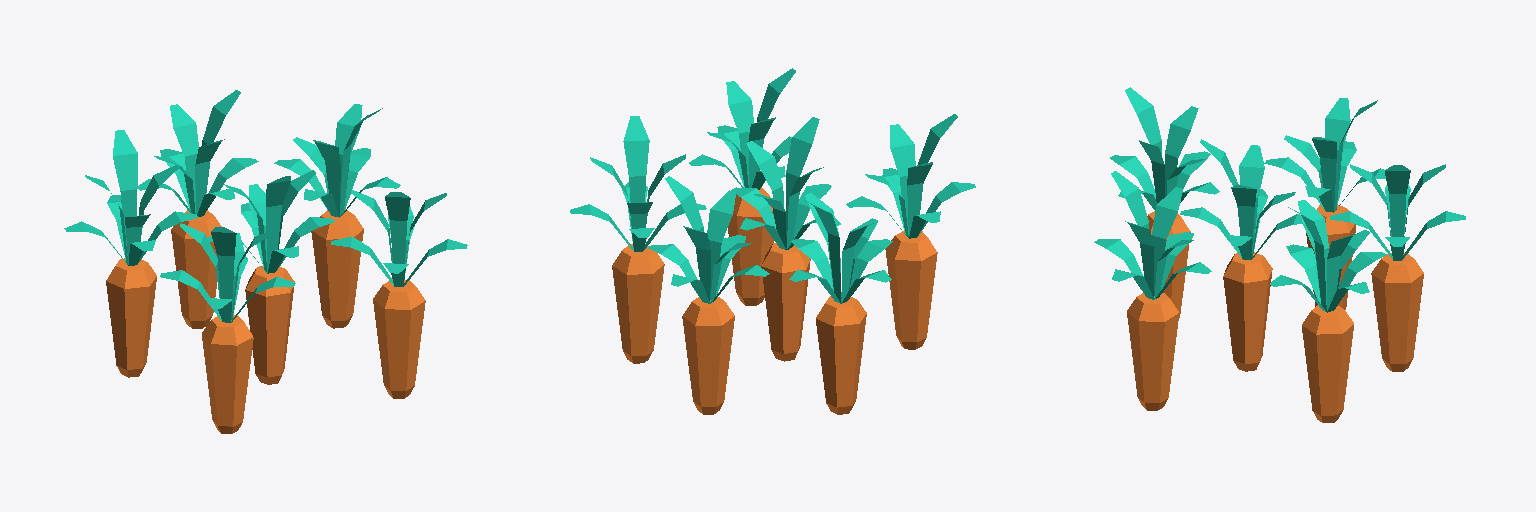
Rendered from carrots.obj.
3 renders of one model, left to right at view 1: azimuth 30°, elevation 25°; view 2: azimuth 150°, elevation 25°; view 3: azimuth 270°, elevation 25°, orthographic.
Visible parts, largest first — view 1: crop_carrot.005, crop_carrot.003, crop_carrot.002, crop_carrot.004, crop_carrot.001, crop_carrot.006; view 2: crop_carrot.004, crop_carrot.006, crop_carrot.002, crop_carrot.005, crop_carrot.003, crop_carrot.001; view 3: crop_carrot.001, crop_carrot.003, crop_carrot.006, crop_carrot.004, crop_carrot.002, crop_carrot.005.
Boxes of the visible parts, x1=… form: crop_carrot.005: x1=64, y1=130, x2=198, y2=377; crop_carrot.003: x1=274, y1=104, x2=400, y2=328; crop_carrot.002: x1=160, y1=223, x2=295, y2=433; crop_carrot.004: x1=138, y1=90, x2=258, y2=328; crop_carrot.001: x1=331, y1=190, x2=467, y2=398; crop_carrot.006: x1=207, y1=170, x2=334, y2=384; crop_carrot.004: x1=648, y1=176, x2=769, y2=414; crop_carrot.006: x1=731, y1=117, x2=840, y2=361; crop_carrot.002: x1=846, y1=114, x2=975, y2=349; crop_carrot.005: x1=789, y1=193, x2=892, y2=414; crop_carrot.003: x1=570, y1=116, x2=706, y2=363; crop_carrot.001: x1=689, y1=68, x2=813, y2=305; crop_carrot.001: x1=1094, y1=171, x2=1211, y2=410; crop_carrot.003: x1=1270, y1=200, x2=1386, y2=422; crop_carrot.006: x1=1180, y1=139, x2=1302, y2=371; crop_carrot.004: x1=1330, y1=164, x2=1465, y2=371; crop_carrot.002: x1=1110, y1=87, x2=1219, y2=317; crop_carrot.005: x1=1264, y1=98, x2=1385, y2=309.
Size of the model in its own units: 0.9098 by 0.6233 by 0.9351.